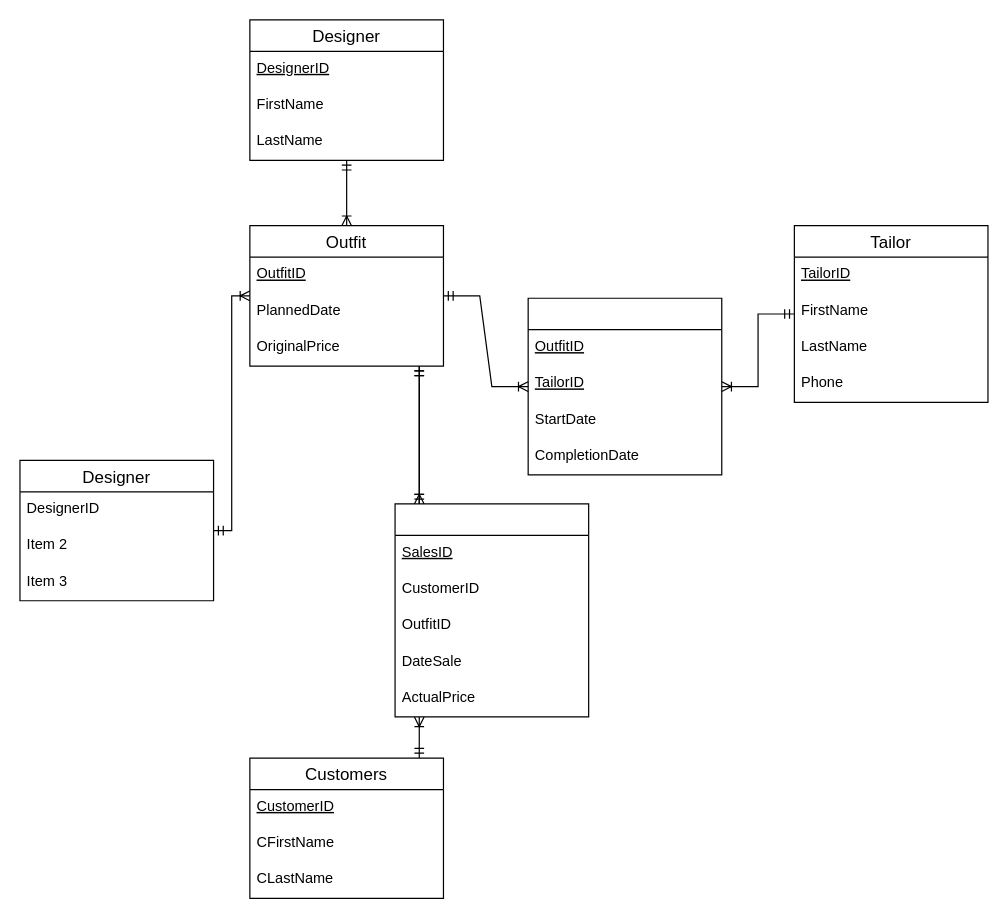
Some shapes in this 1008 by 918 pixel diagram are drawn without their labels. The shapes that lost their labels are listed below. From the top down, each one's box as (x1, y1, x2, y2) in pixels, then its label:
(527, 297, 722, 475): TailorOutfit
(394, 503, 589, 717): Order
